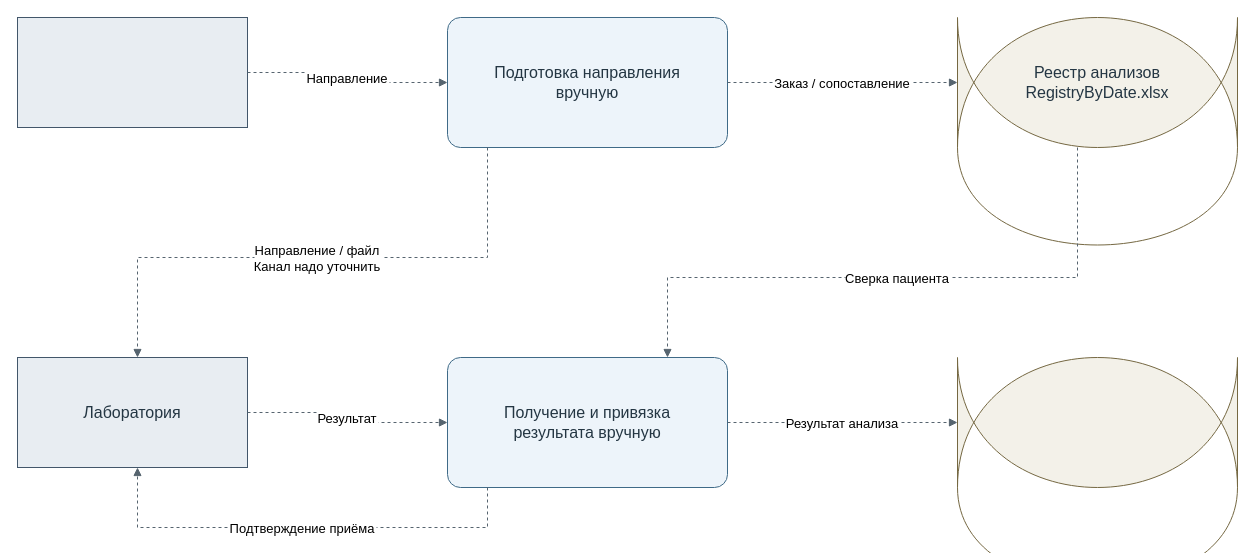
The diagram is 1255 pixels wide and 553 high, and some of its shapes have lost their labels. Each missing label, with the centre of its shape:
"Врач / ресепшен" goes at point 132,72.
"Результаты в папке пациента" goes at point 1097,422.
